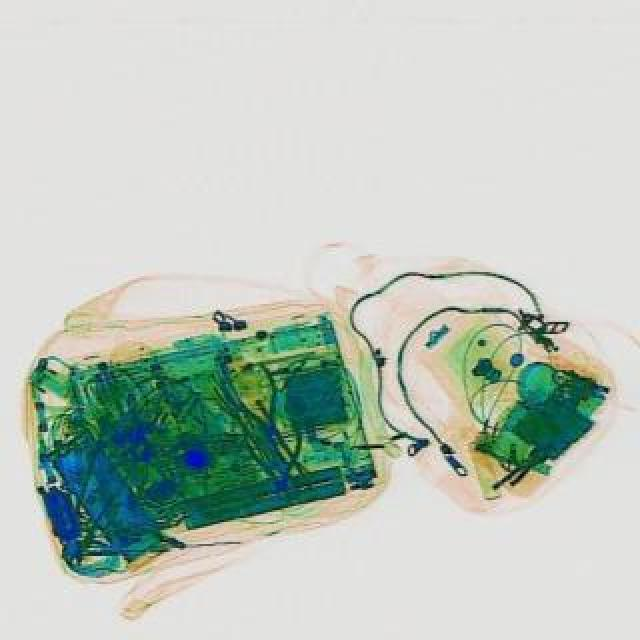wrench: (210, 358, 298, 454), (238, 412, 312, 504)
